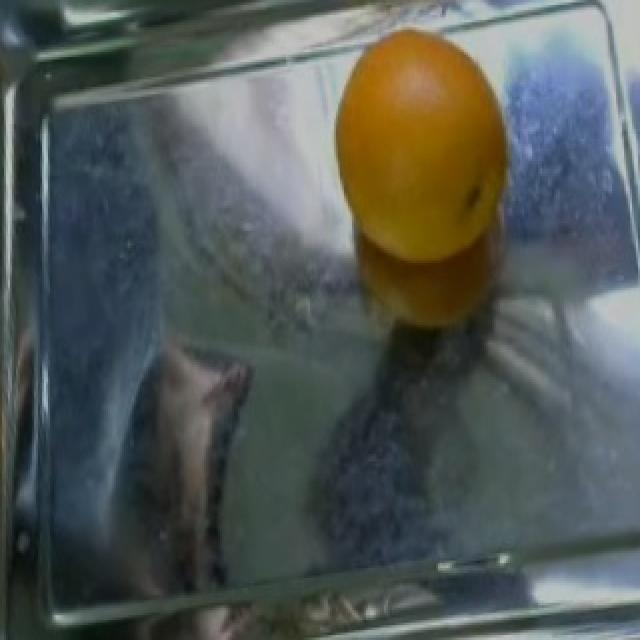Fruit: (314, 18, 526, 286)
